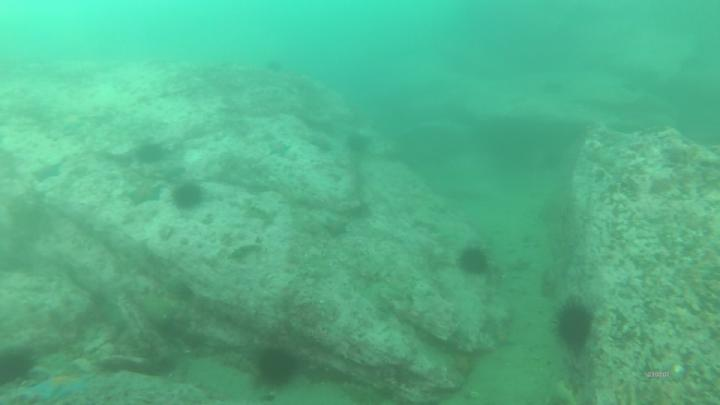echinus: (559, 305, 593, 345), (259, 351, 294, 383), (460, 249, 489, 276), (177, 188, 203, 208), (138, 144, 165, 163)
starfish: (33, 378, 91, 401), (323, 216, 351, 240), (130, 184, 161, 204), (33, 164, 60, 181)
